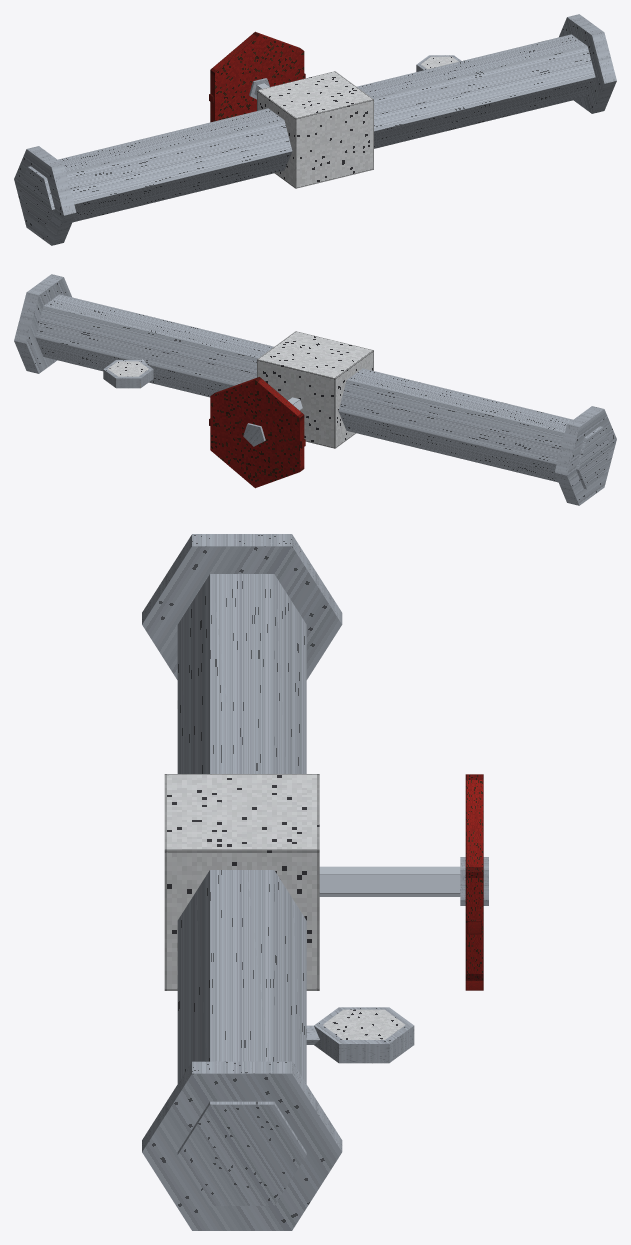
Rendered from pipes_medbay_clean.glb.
The picture shows the model from 3 angles, top to bottom: view 1: azimuth 30°, elevation 25°; view 2: azimuth 150°, elevation 25°; view 3: azimuth 270°, elevation 25°; orthographic projection. The views are drawn at different scales.
Visible parts, largest first — view 1: pipes_medbay_clean; view 2: pipes_medbay_clean; view 3: pipes_medbay_clean.
Boxes of the visible parts, <box> form: pipes_medbay_clean: <box>14,14,616,245</box>; pipes_medbay_clean: <box>14,274,616,505</box>; pipes_medbay_clean: <box>142,534,488,1230</box>.
Bounding box in the file's own units: 1.8 × 0.333 × 0.4835.
Materials: 6 (6 with a texture image).
